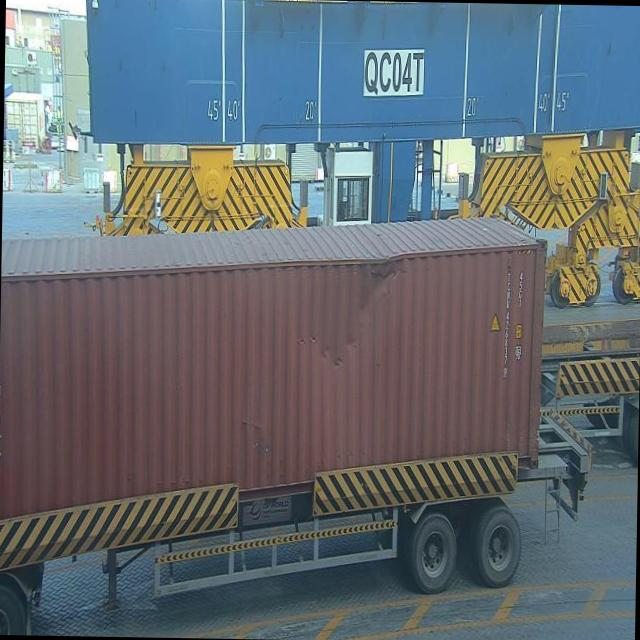Deframe_or_Dent: (340, 240, 414, 314), (292, 322, 344, 377)
